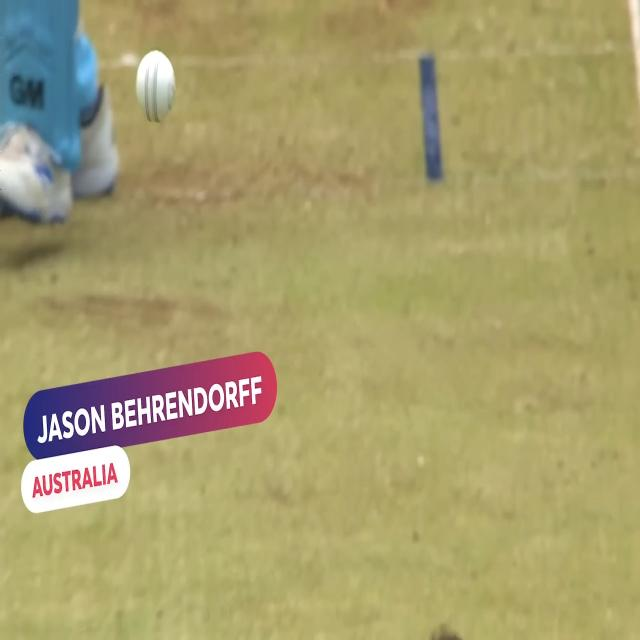ball: (131, 51, 184, 120)
